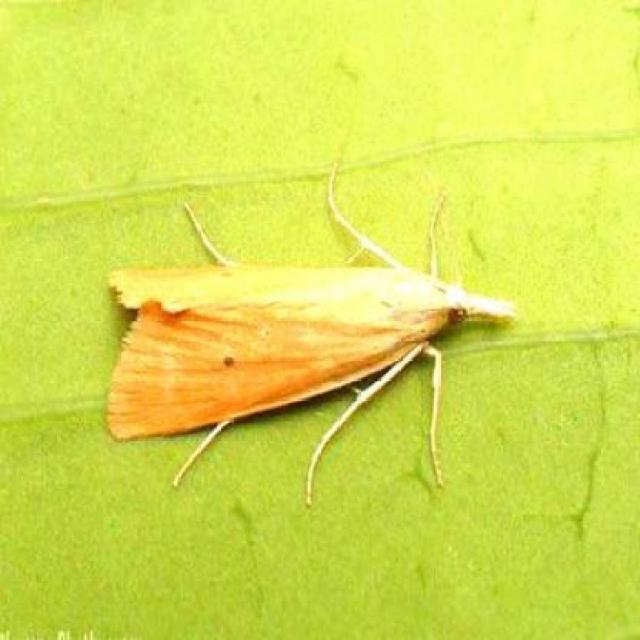stem-borer: (101, 242, 522, 456)
